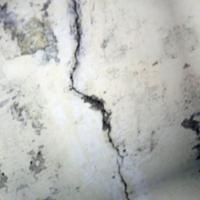crack: (50, 0, 162, 199)
